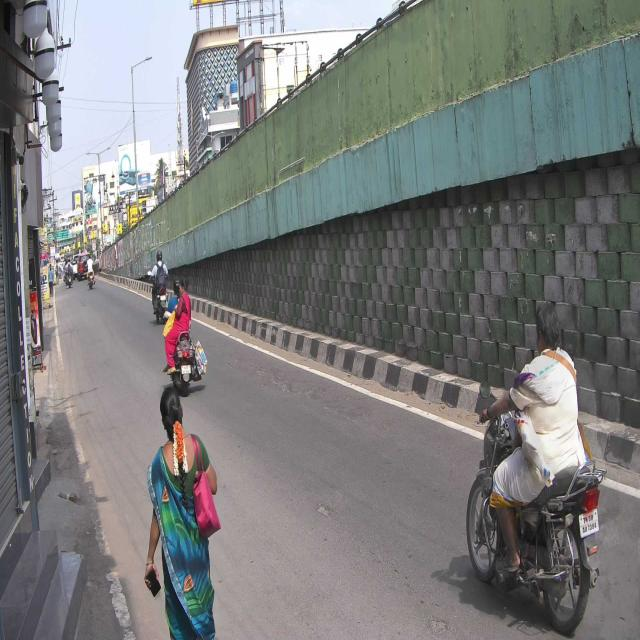single_rider: (466, 299, 604, 634)
